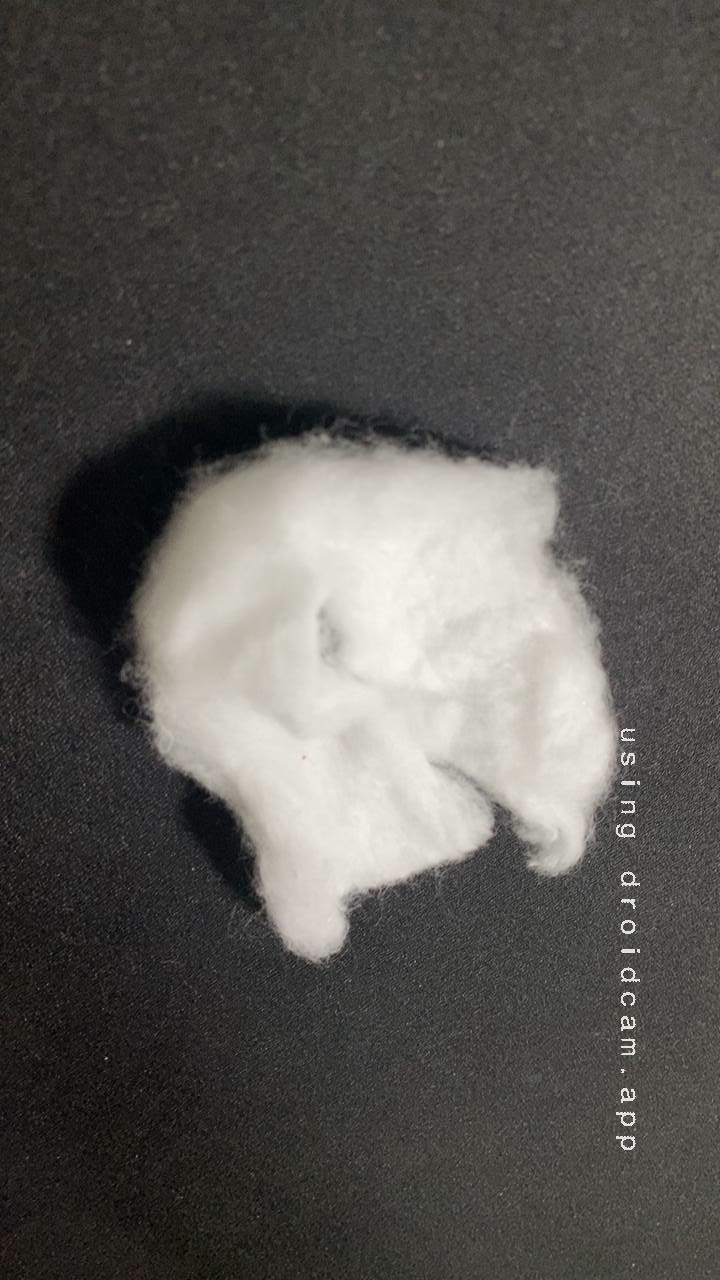cotton: (75, 428, 670, 950)
